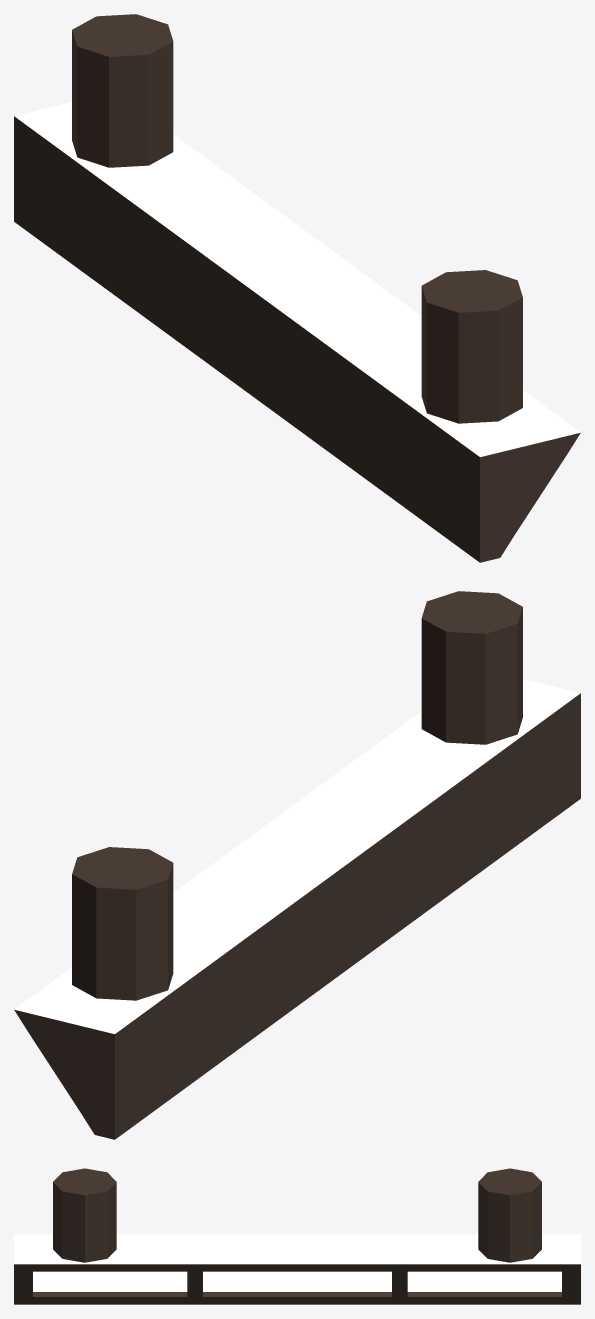
Rendered from lamp_long.glb.
3 views of the same model, one above another, from view 1: azimuth 30°, elevation 25°; view 2: azimuth 150°, elevation 25°; view 3: azimuth 270°, elevation 25° (orthographic). The views are drawn at different scales.
Parts seen in each view (by area): view 1: lamp_long_mesh; view 2: lamp_long_mesh; view 3: lamp_long_mesh.
Part boxes in pixels (<box>): lamp_long_mesh: <box>14,14,580,562</box>; lamp_long_mesh: <box>14,591,580,1139</box>; lamp_long_mesh: <box>14,1168,580,1304</box>.
Size of what is drawn, in the model's own units: 0.2 by 0.41 by 1.6.
